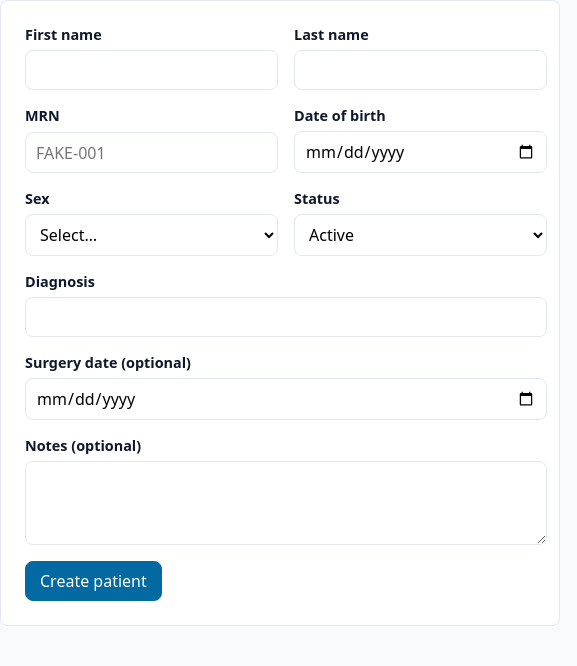
Test: PatientForm › shows field errors next to their inputs and keeps the typed values
The width and height of the screenshot is (577, 666).
Click the button "Create patient". click: (93, 581)
box: [25,561,162,601]
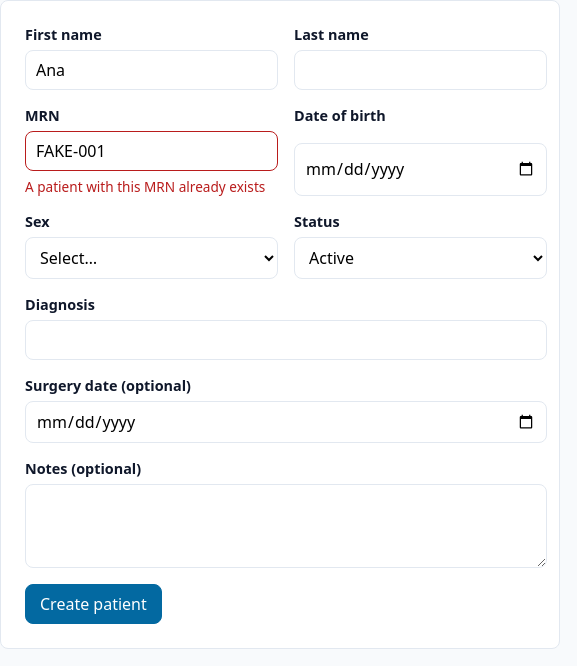
expect the text "A patient with this MRN already exists" is shown: met, box [25,177,278,196]
expect the field labelled "MRN" holds "FAKE-001": met, box [25,131,278,171]
expect the field labelled "First name" holds "Ana": met, box [25,50,278,90]
